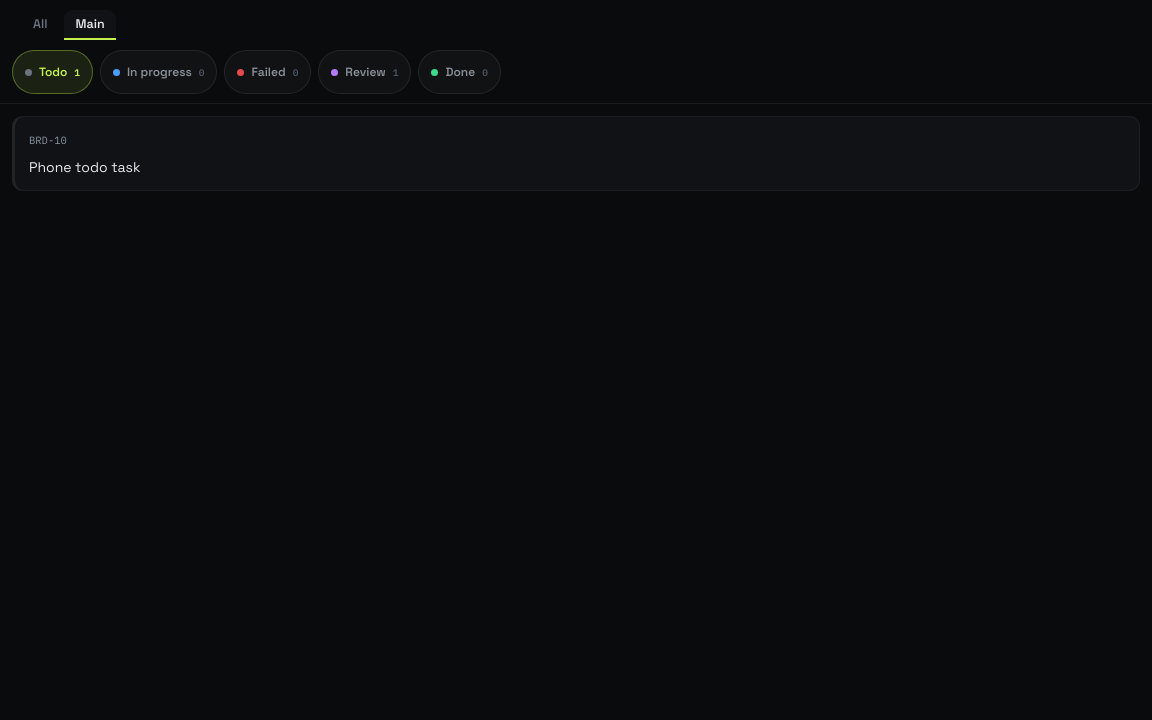
Test: Board plan membership filter › renders one touch-selected lane without drag or bulk controls on phones
Expected: the text "Phone review task" is not shown
Click the button "Review 1": (365, 72) [318, 50, 411, 94]
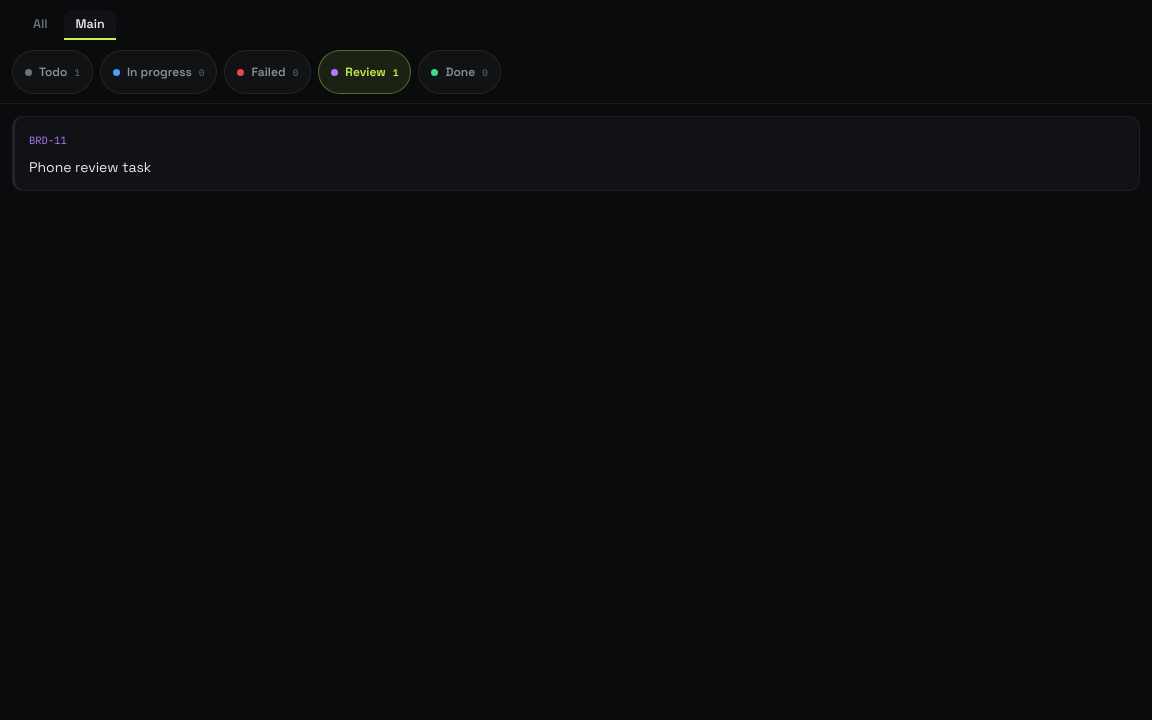
Expected: the element with test id "mobile-board-lane-review" is shown, [12, 116, 1140, 191]
Expected: the text "Phone todo task" is gone
Expected: the text "Phone review task" is shown, [29, 158, 151, 176]
